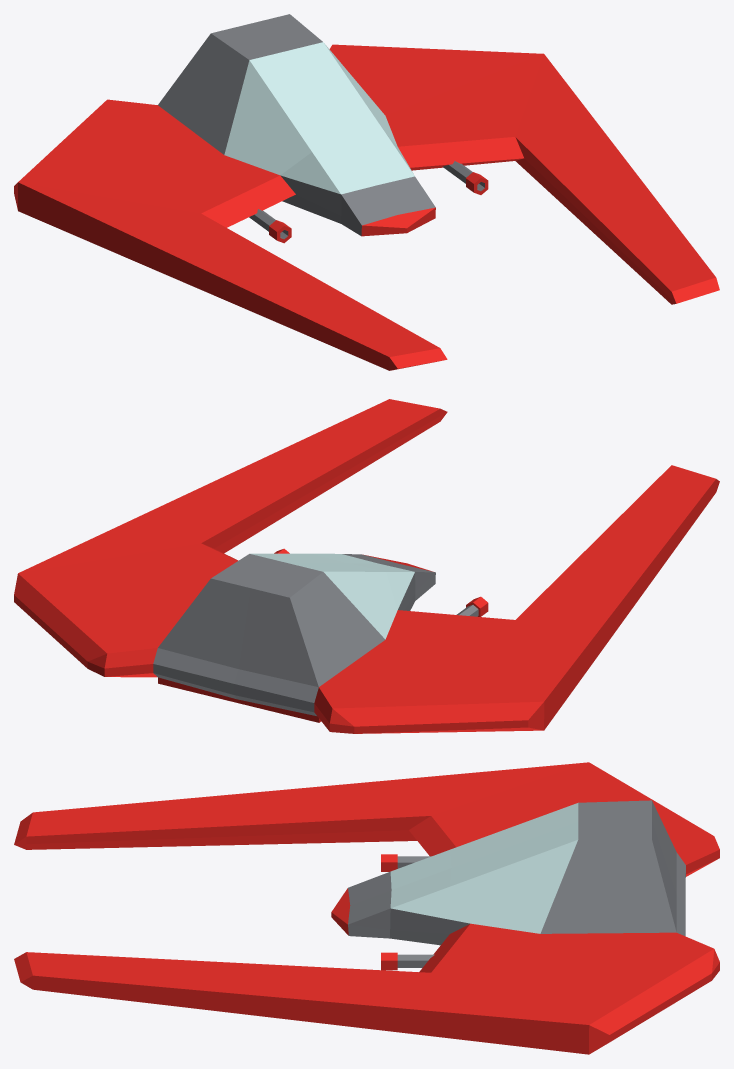
The model's file is drone_10_1.gltf.
3 renders of one model, top to bottom at view 1: azimuth 30°, elevation 25°; view 2: azimuth 150°, elevation 25°; view 3: azimuth 270°, elevation 25°, orthographic. The views are drawn at different scales.
Visible parts, largest first — view 1: 10.001; view 2: 10.001; view 3: 10.001.
Part boxes in pixels (x1,y1,x2,y2): 10.001: (14,14,719,370); 10.001: (14,399,719,733); 10.001: (14,762,719,1054).
Bounding box in the file's own units: 5.92 × 1.15 × 6.72.
Materials: 1 (1 with a texture image).
